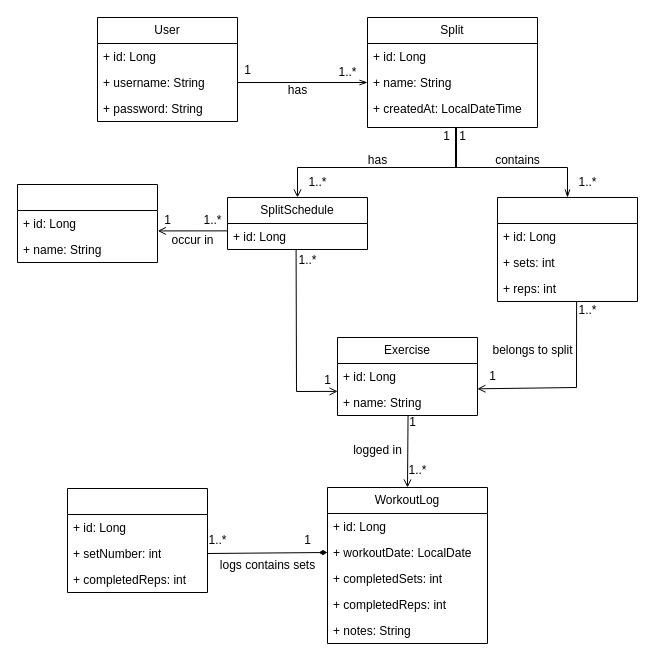
This 655x664 diagram has some shape labels left out. The shapes that lost their labels are listed below. From the top down, each one's box as (x1, y1, x2, y2) in pixels, then its label:
(16, 184, 158, 262): Day
(496, 196, 638, 302): SplitExercise
(66, 488, 208, 592): WorkoutSet
